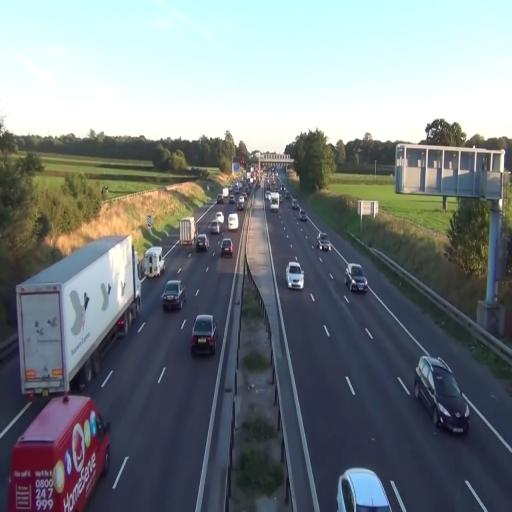vehicle: (14, 233, 142, 398), (7, 390, 111, 512), (414, 354, 469, 436), (338, 466, 392, 512), (190, 313, 218, 357), (161, 279, 185, 313), (345, 262, 368, 294), (286, 261, 304, 289), (195, 232, 209, 253), (266, 190, 280, 211), (317, 233, 331, 252), (220, 236, 233, 256)
